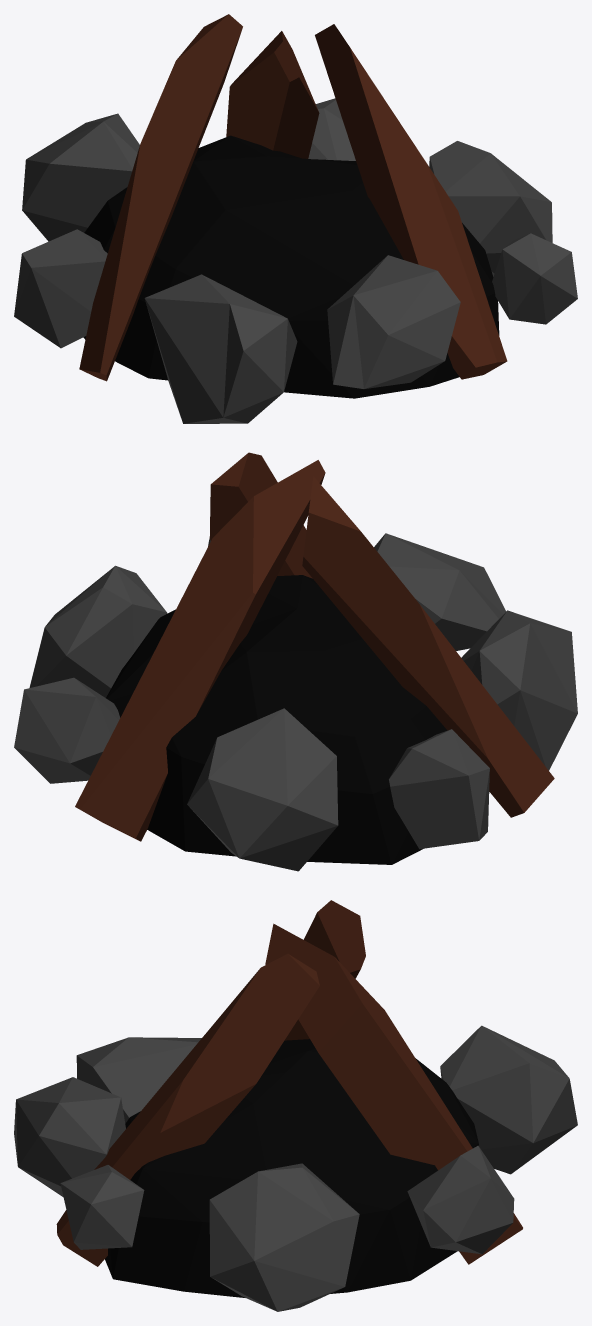
Rendered from FirePit.fbx.
3 views of the same model, one above another, from view 1: azimuth 30°, elevation 25°; view 2: azimuth 150°, elevation 25°; view 3: azimuth 270°, elevation 25° (orthographic). The views are drawn at different scales.
Parts seen in each view (by area): view 1: FirePit; view 2: FirePit; view 3: FirePit.
Part boxes in pixels (bbox=[...]): FirePit: bbox=[14, 14, 577, 423]; FirePit: bbox=[14, 452, 577, 871]; FirePit: bbox=[14, 900, 577, 1311].
Size of the model in its own units: 89.15 by 57.18 by 94.35.
